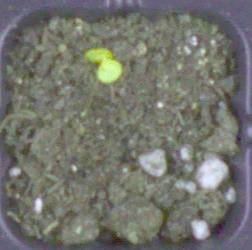pepper seed: (36, 16, 158, 100), (26, 14, 140, 80)
